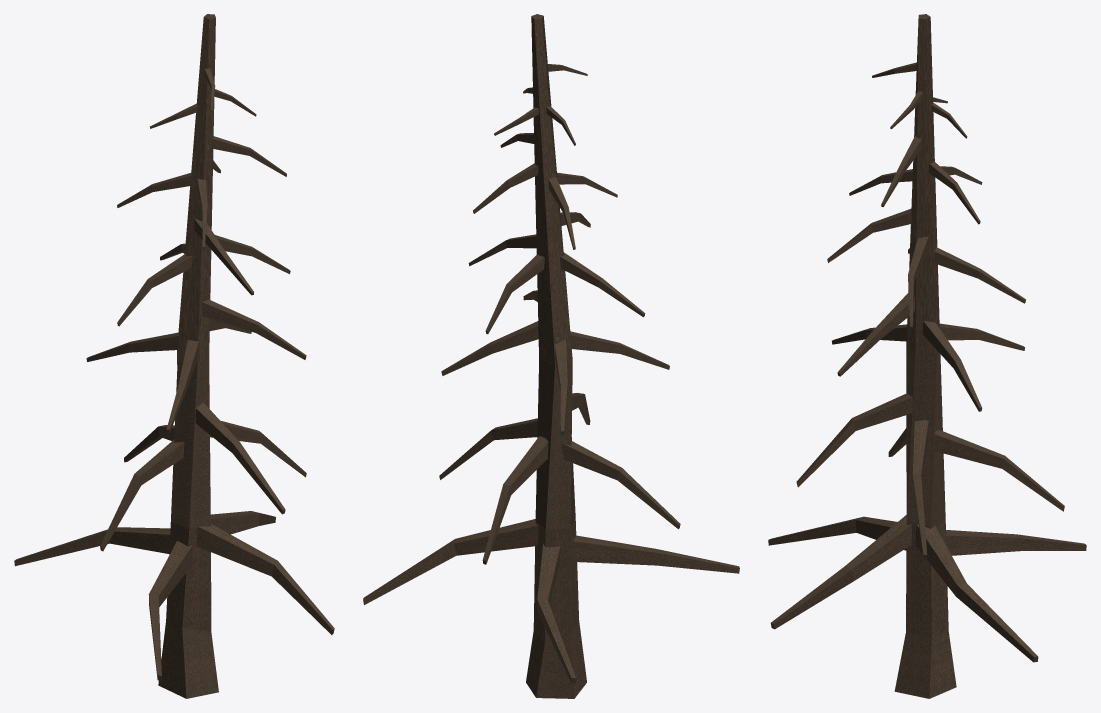
The model's file is dead_tree_1.glb.
3 views of the same model, side by side, from view 1: azimuth 30°, elevation 25°; view 2: azimuth 150°, elevation 25°; view 3: azimuth 270°, elevation 25° (orthographic). The views are drawn at different scales.
Parts seen in each view (by area): view 1: DeadSpruce1; view 2: DeadSpruce1; view 3: DeadSpruce1.
Part boxes in pixels (<box>): DeadSpruce1: <box>14,14,334,698</box>; DeadSpruce1: <box>363,14,739,698</box>; DeadSpruce1: <box>768,14,1086,698</box>.
Size of the model in its own units: 4.75 by 12.2 by 5.2.
1 material, 1 textured.
